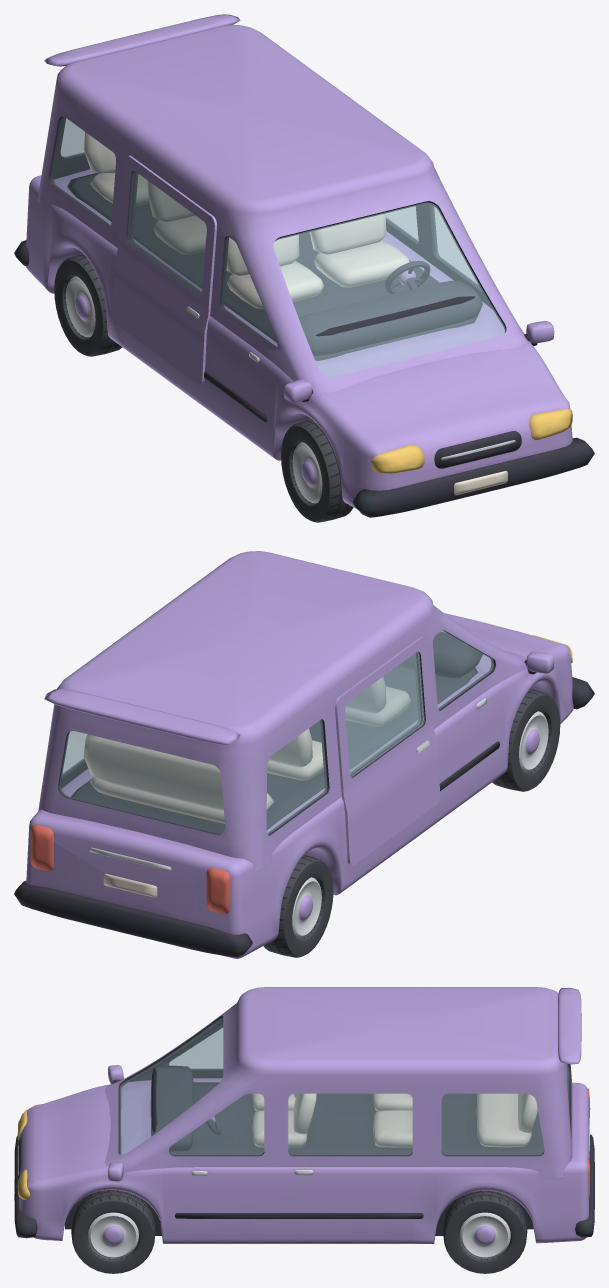
Rendered from minivan.glb.
The picture shows the model from 3 angles, top to bottom: view 1: azimuth 30°, elevation 25°; view 2: azimuth 150°, elevation 25°; view 3: azimuth 270°, elevation 25°; orthographic projection. The views are drawn at different scales.
Visible parts, largest first — view 1: minivan_body, minivan_windows, minivan_sliding_door, minivan_wheel_fr, minivan_wheel_rr; view 2: minivan_body, minivan_windows, minivan_sliding_door, minivan_wheel_rr, minivan_wheel_fr; view 3: minivan_body, minivan_windows, minivan_wheel_fl, minivan_wheel_rl.
Boxes of the visible parts, box(x1,y1,x2,y2) form: minivan_body: box(14, 14, 594, 517); minivan_windows: box(51, 116, 505, 376); minivan_sliding_door: box(112, 155, 216, 384); minivan_wheel_fr: box(281, 419, 353, 522); minivan_wheel_rr: box(54, 254, 122, 356); minivan_body: box(14, 551, 594, 958); minivan_windows: box(59, 630, 493, 834); minivan_sliding_door: box(335, 636, 439, 865); minivan_wheel_rr: box(263, 855, 333, 957); minivan_wheel_fr: box(492, 689, 560, 791); minivan_body: box(14, 987, 594, 1243); minivan_windows: box(120, 1017, 568, 1154); minivan_wheel_fl: box(71, 1190, 155, 1273); minivan_wheel_rl: box(443, 1190, 527, 1273).
Bounding box in the file's own units: 2.09 × 1.89 × 4.81.
Materials: 6 (2 with a texture image).
